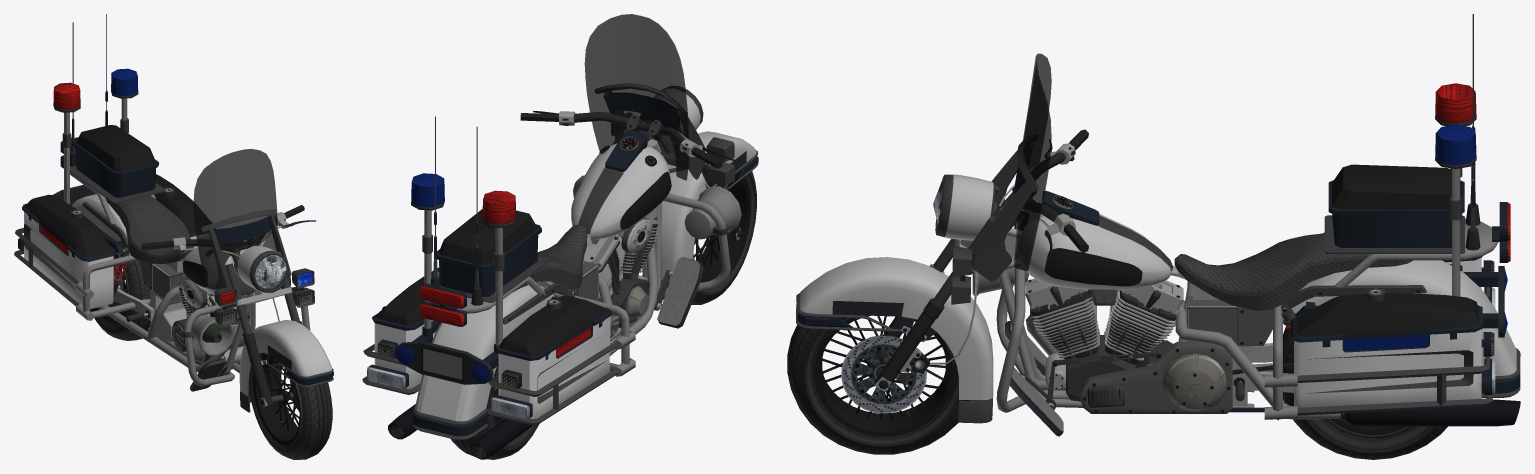
Rendered from Motorcycle_3.FBX.
3 views of the same model, side by side, from view 1: azimuth 30°, elevation 25°; view 2: azimuth 150°, elevation 25°; view 3: azimuth 270°, elevation 25° (orthographic). The views are drawn at different scales.
Visible parts, largest first — view 1: Body, Steer, Wheel_F, Wheel_B; view 2: Body, Steer, Wheel_F, Wheel_B; view 3: Body, Steer, Wheel_F, Wheel_B.
Boxes of the visible parts, left/top/right/bottom form: Body: left=14, top=14, right=310, bottom=391; Steer: left=142, top=149, right=333, bottom=412; Wheel_F: left=250, top=353, right=332, bottom=459; Wheel_B: left=90, top=251, right=150, bottom=340; Body: left=362, top=116, right=741, bottom=459; Steer: left=520, top=14, right=758, bottom=299; Wheel_F: left=691, top=167, right=756, bottom=304; Wheel_B: left=450, top=365, right=539, bottom=459; Body: left=971, top=14, right=1520, bottom=436; Steer: left=796, top=53, right=1088, bottom=423; Wheel_F: left=787, top=315, right=959, bottom=454; Wheel_B: left=1283, top=325, right=1447, bottom=459.
Size of the model in its own units: 30.78 by 52.36 by 81.09.
Materials: 5 (2 with a texture image).
